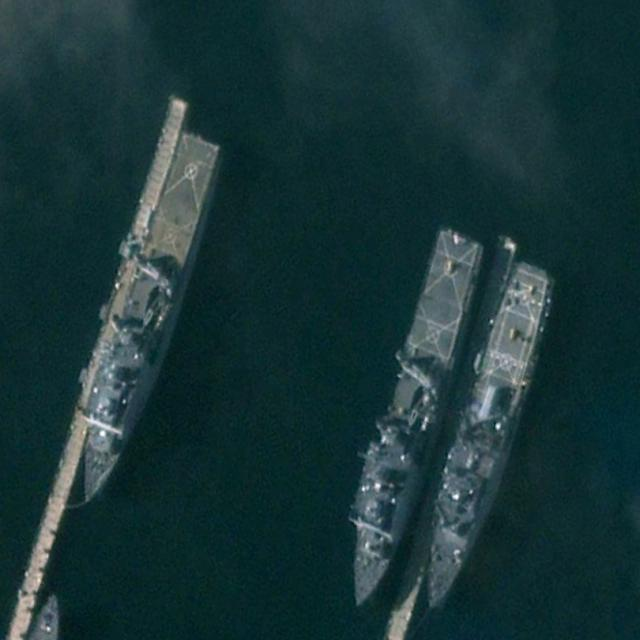Landing: (60, 125, 231, 518), (327, 220, 495, 620), (405, 254, 567, 624)
